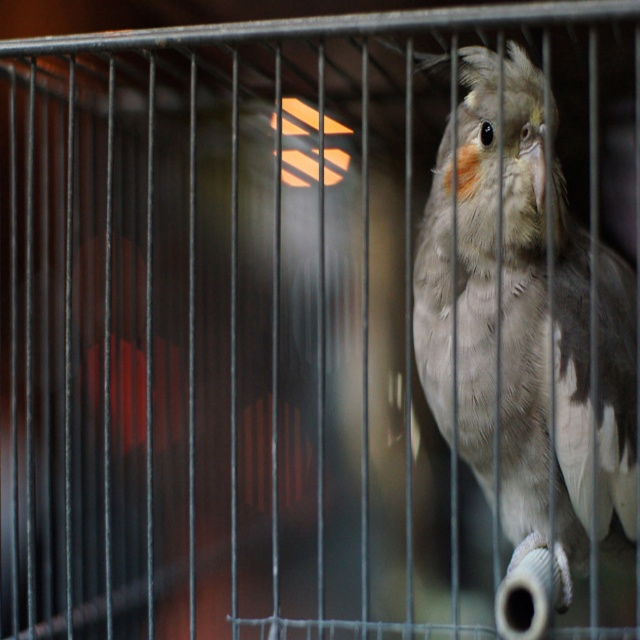Parrot: (377, 40, 640, 614)
